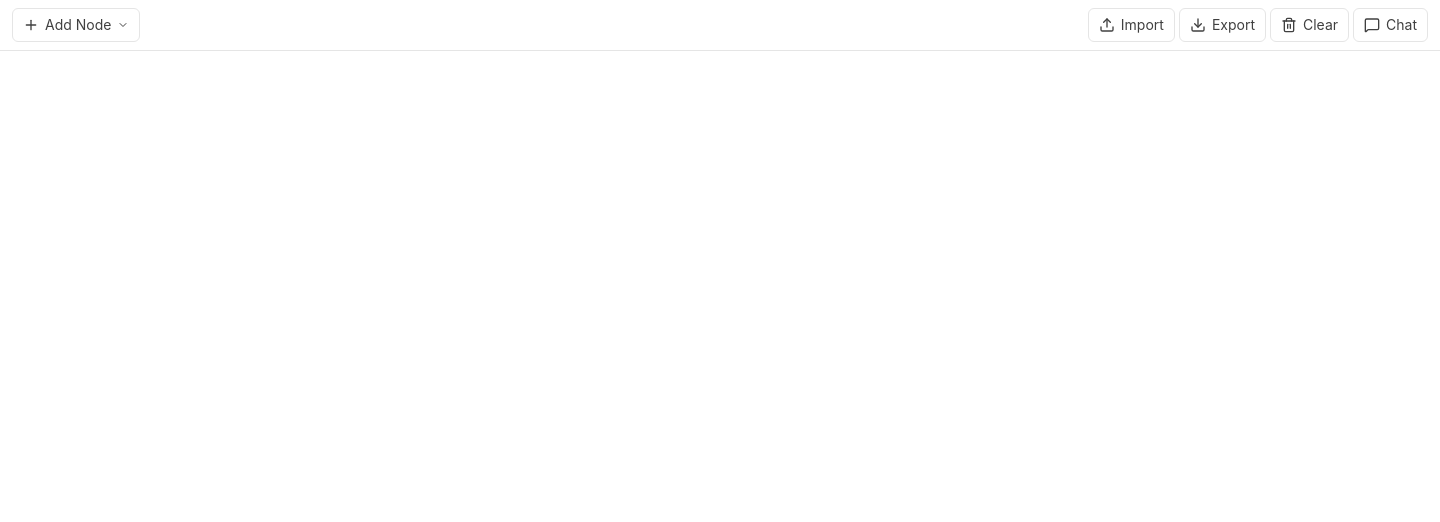
it: Toolbar › keyboard navigation › Escape closes the menu and returns focus to the Add button
The width and height of the screenshot is (1440, 522).
Click the button with test id "toolbar-add-button": (76, 25) [12, 8, 140, 42]
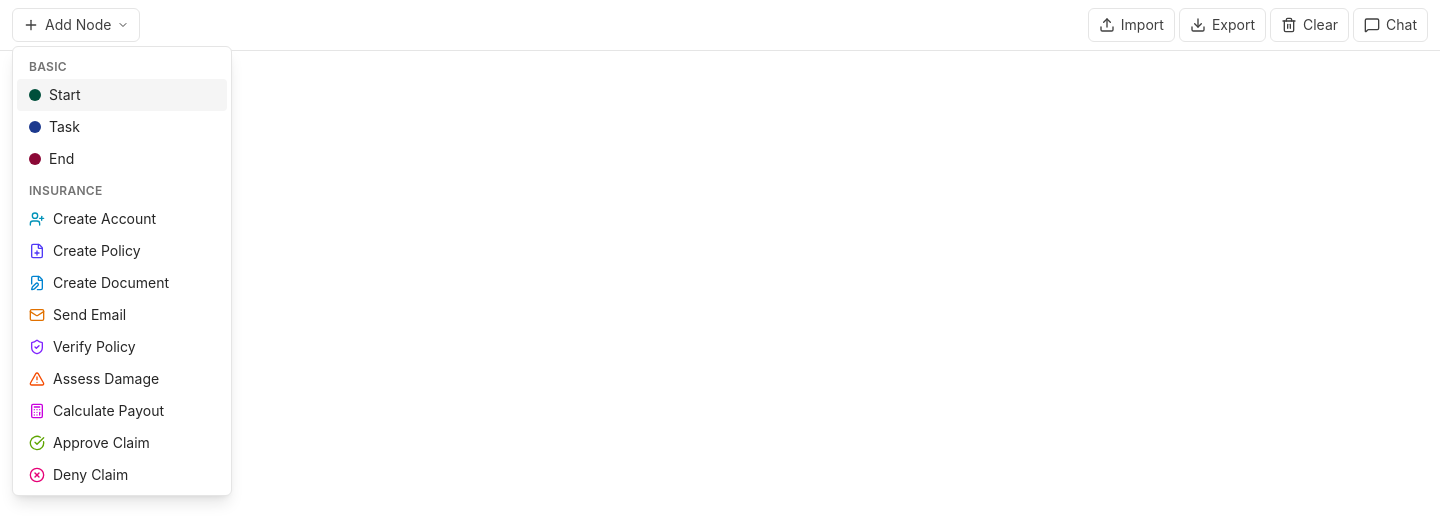
Press Escape in the menu with test id "toolbar-add-menu", box [12, 46, 232, 496]
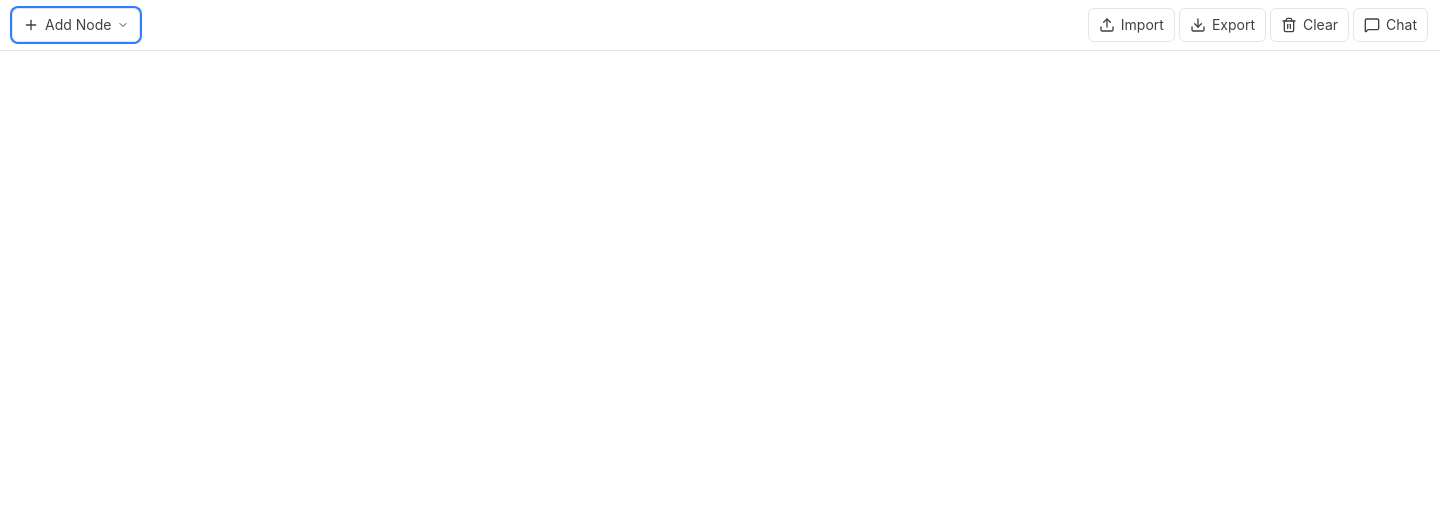
Check: the menu with test id "toolbar-add-menu" is gone
